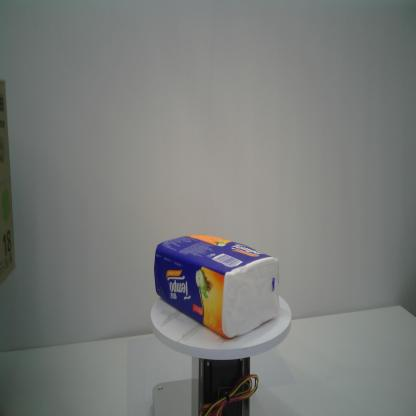Tissue: (154, 233, 279, 339)
